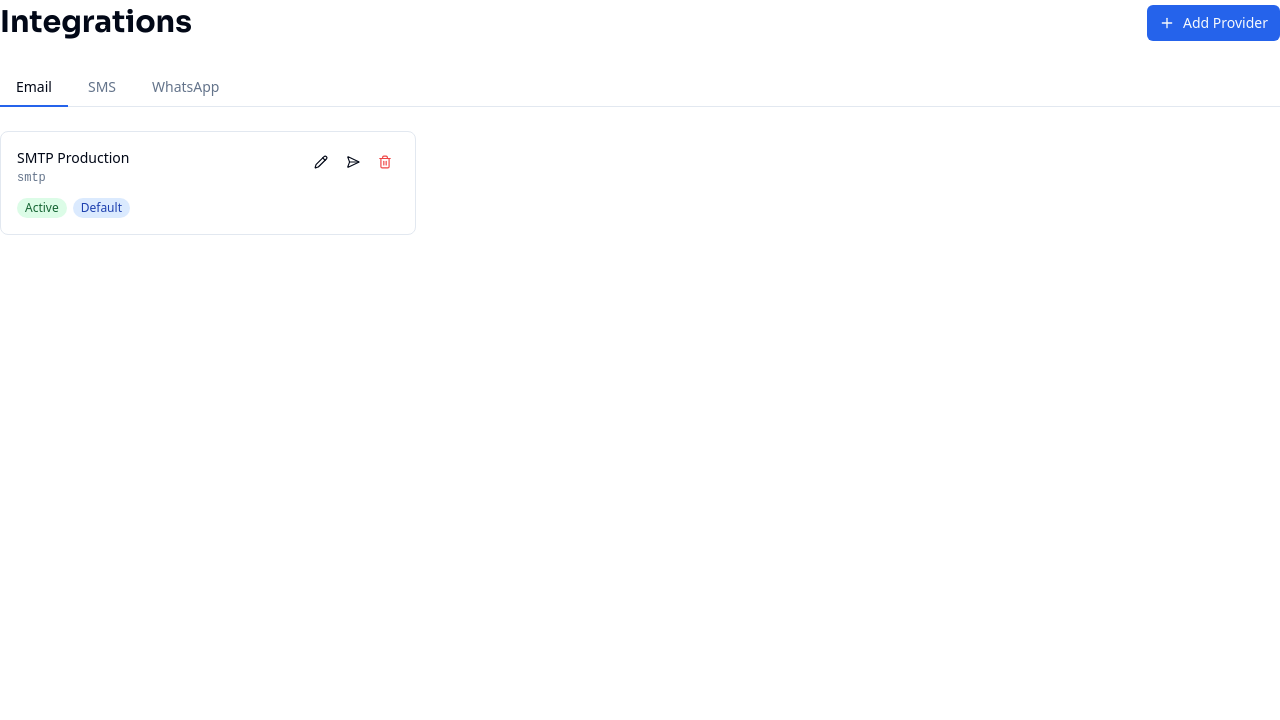
IntegrationsPage — providers › edit dialog shows •••• placeholder for saved credentials — never renders actual value
Click the button named "Edit provider".
click(321, 162)  # box [307, 148, 335, 176]
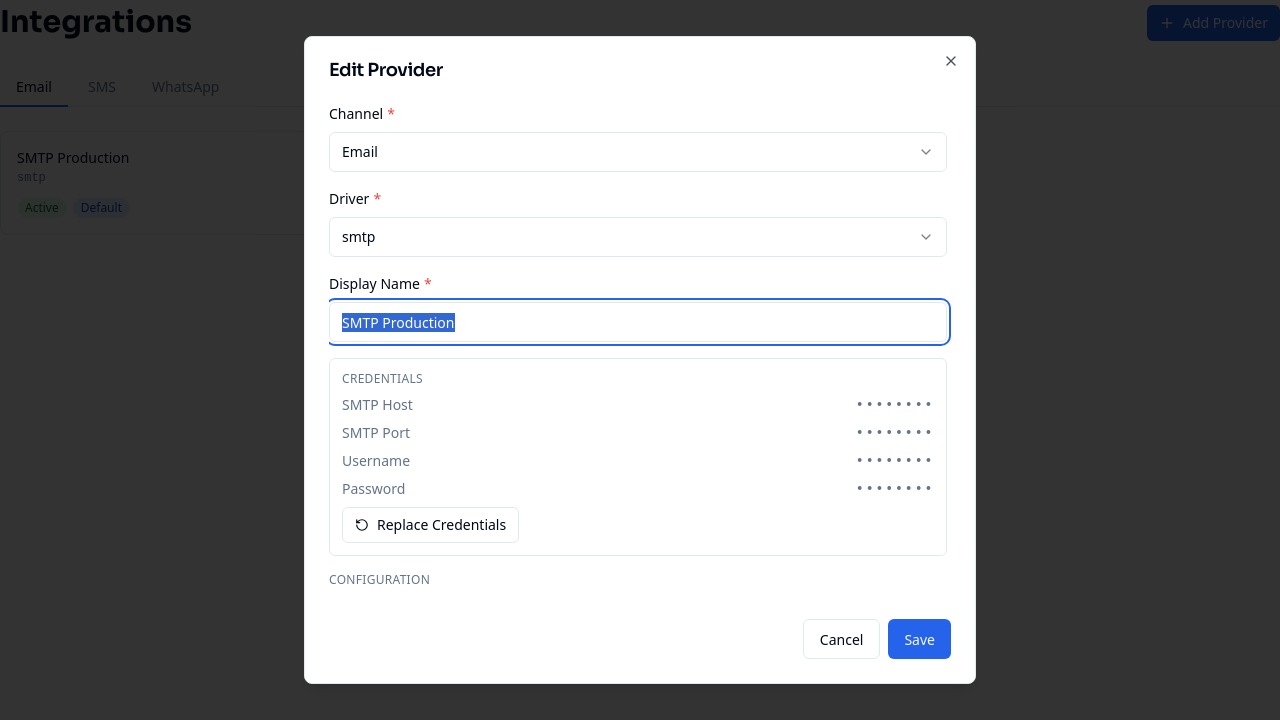
Expected: the text "••••••••" in the row of "SMTP Host" is shown, [856, 397, 934, 413]
